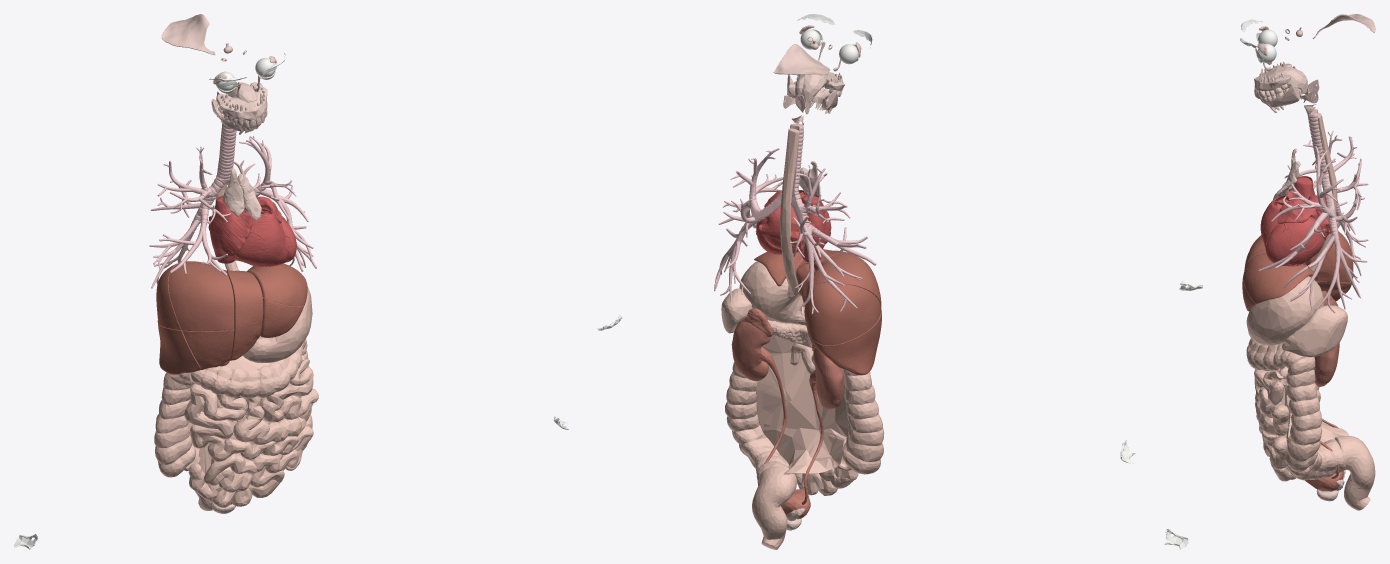
Rendered from organs.glb.
3 renders of one model, left to right at view 1: azimuth 30°, elevation 25°; view 2: azimuth 150°, elevation 25°; view 3: azimuth 270°, elevation 25°, orthographic. The views are drawn at different scales.
Visible parts, largest first — view 1: gut, liver, lung, other, heart, eye; view 2: gut, liver, lung, kidney, other, heart, eye; view 3: gut, lung, liver, heart, other, kidney, eye.
Part boxes in pixels (left/top/right/bottom): gut: left=154, top=122, right=318, bottom=510; liver: left=156, top=261, right=307, bottom=374; lung: left=149, top=123, right=316, bottom=288; other: left=161, top=14, right=276, bottom=513; heart: left=208, top=195, right=296, bottom=266; eye: left=14, top=53, right=568, bottom=549; gut: left=721, top=128, right=884, bottom=549; liver: left=754, top=249, right=881, bottom=375; lung: left=714, top=94, right=876, bottom=315; kidney: left=731, top=308, right=844, bottom=519; other: left=773, top=25, right=861, bottom=530; heart: left=755, top=190, right=831, bottom=262; eye: left=597, top=14, right=1135, bottom=463; gut: left=1246, top=113, right=1375, bottom=510; lung: left=1258, top=83, right=1368, bottom=312; liver: left=1242, top=231, right=1353, bottom=311; heart: left=1260, top=176, right=1331, bottom=266; other: left=1254, top=14, right=1375, bottom=501; kidney: left=1305, top=290, right=1344, bottom=491; eye: left=1164, top=19, right=1277, bottom=549.
Bounding box in the file's own units: 846 × 746 × 292.
